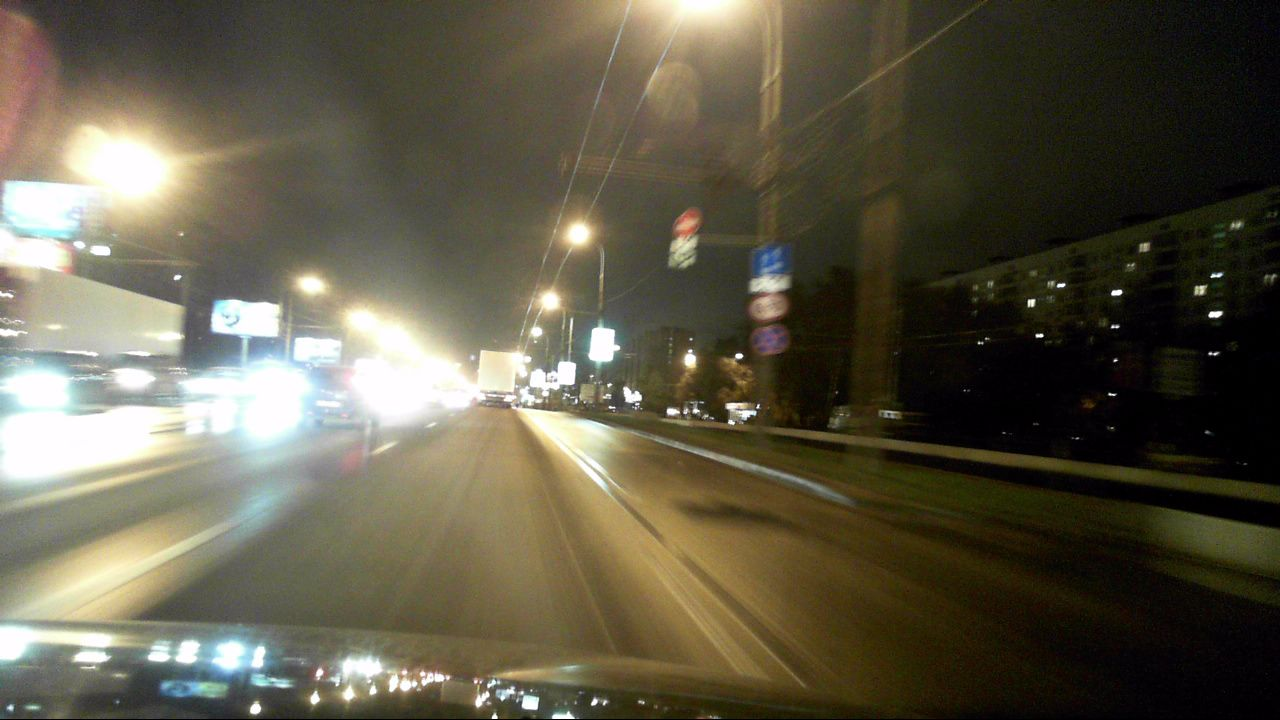No Parking: (751, 326, 779, 354)
